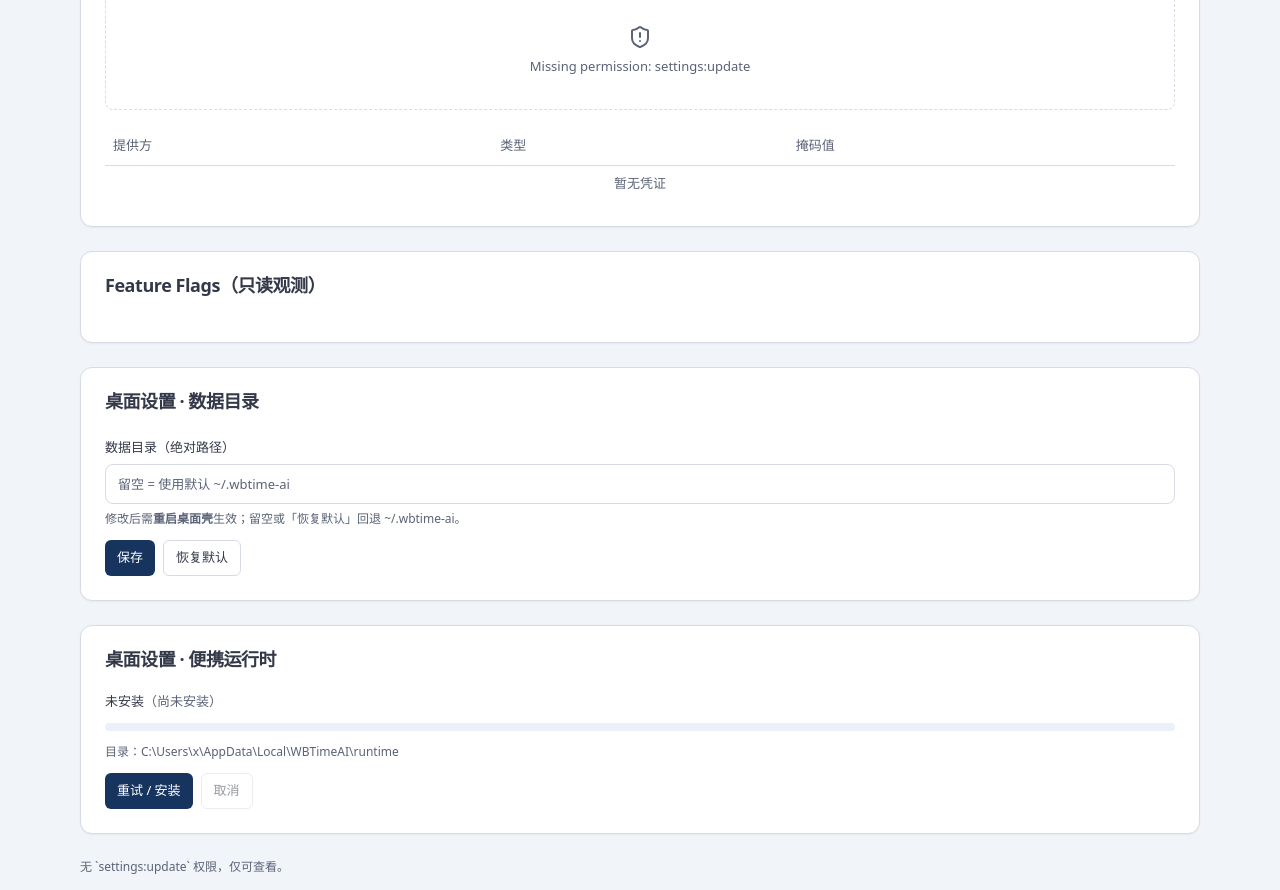
Scenario: Settings · 桌面数据目录 Card › 渲染层即时提示：相对路径被拦截（不发起 setSettings）
(page scrolled)
Type "relative/data" into the field with test id "desktop-data-dir-input" at (640, 484), box [105,464,1175,504]
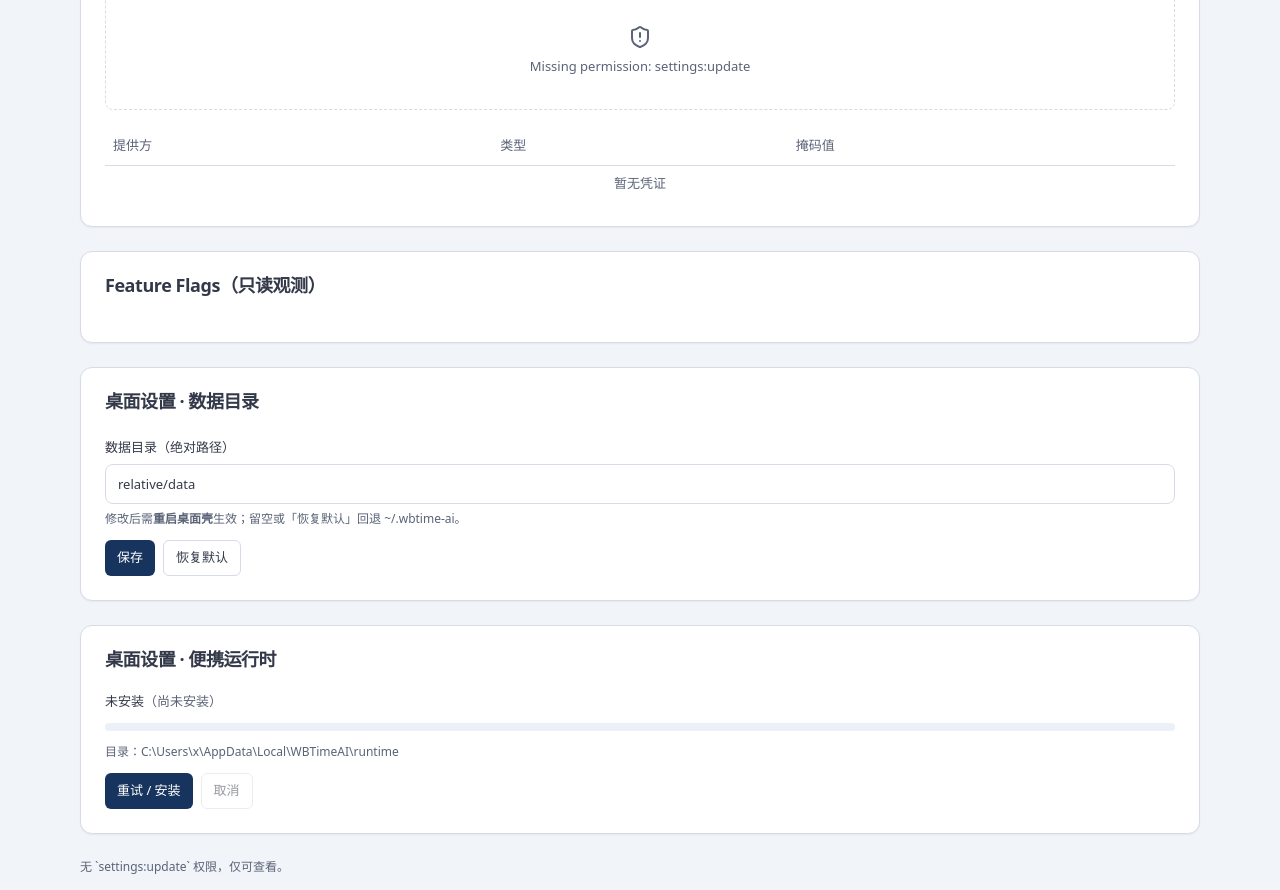
Click the button with test id "desktop-data-dir-save" at (130, 558), box [105,540,155,576]
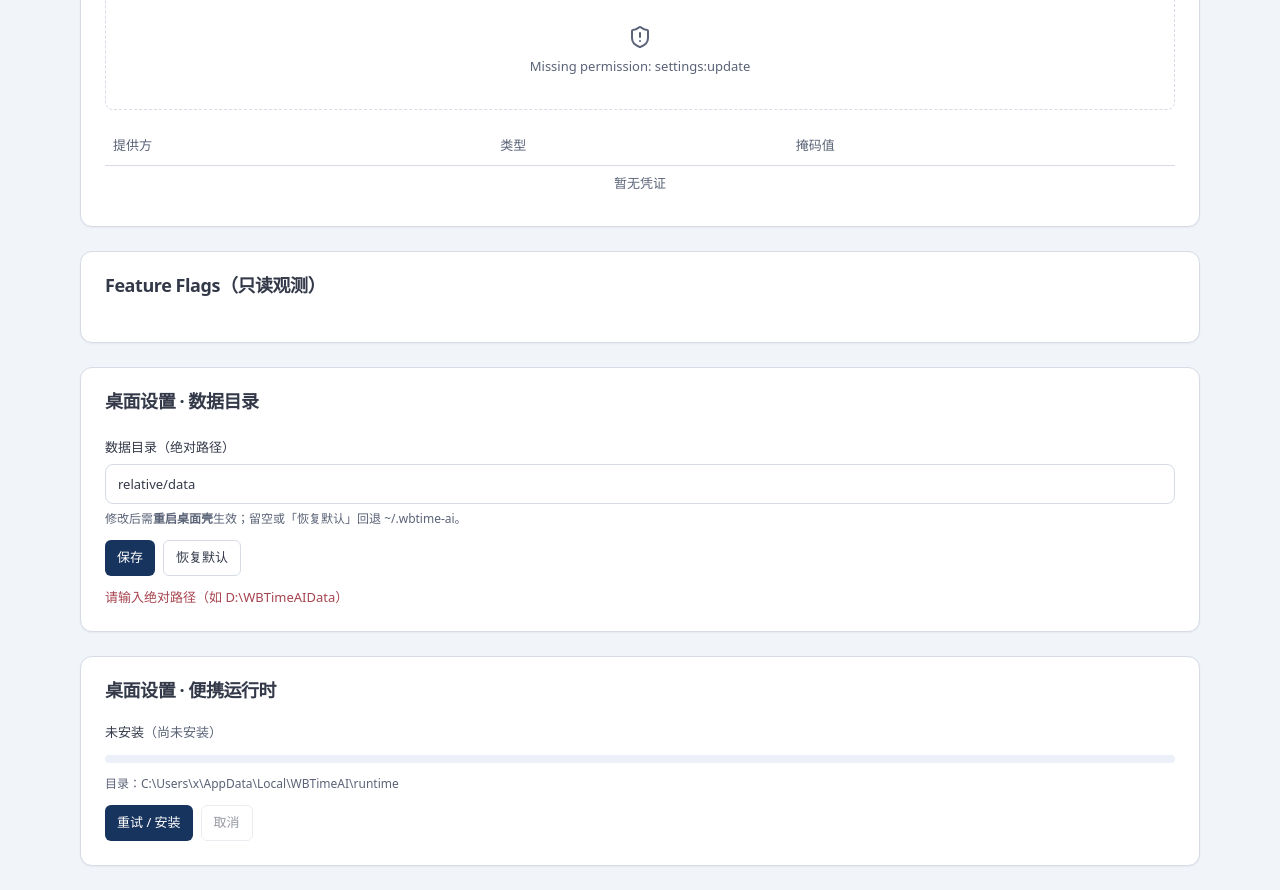
Now the text "请输入绝对路径（如 D:\\WBTimeAIData）" is shown, box [105,588,348,606]
